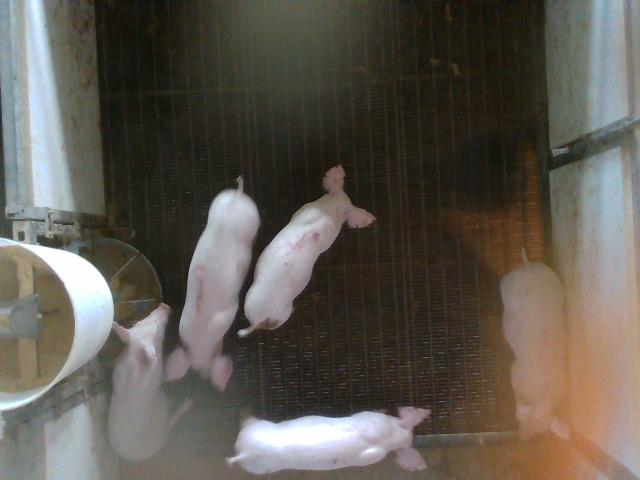pig-3: (165, 176, 260, 389)
pig-4: (500, 250, 572, 440)
pig-5: (238, 166, 376, 336)
